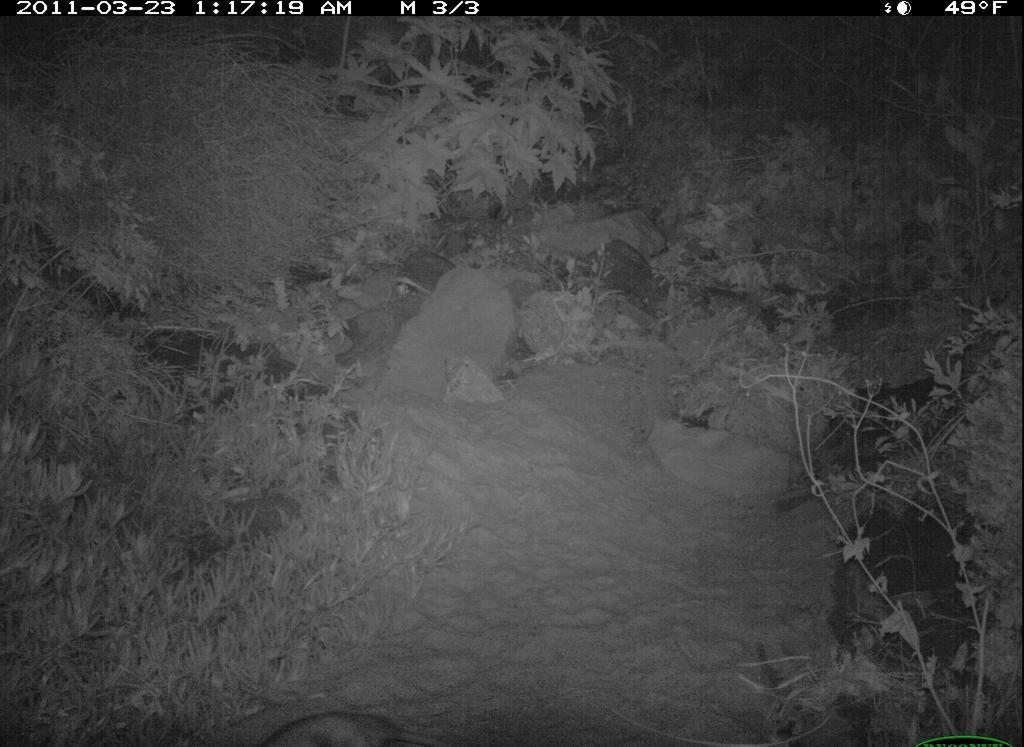opossum: (245, 706, 473, 747)
